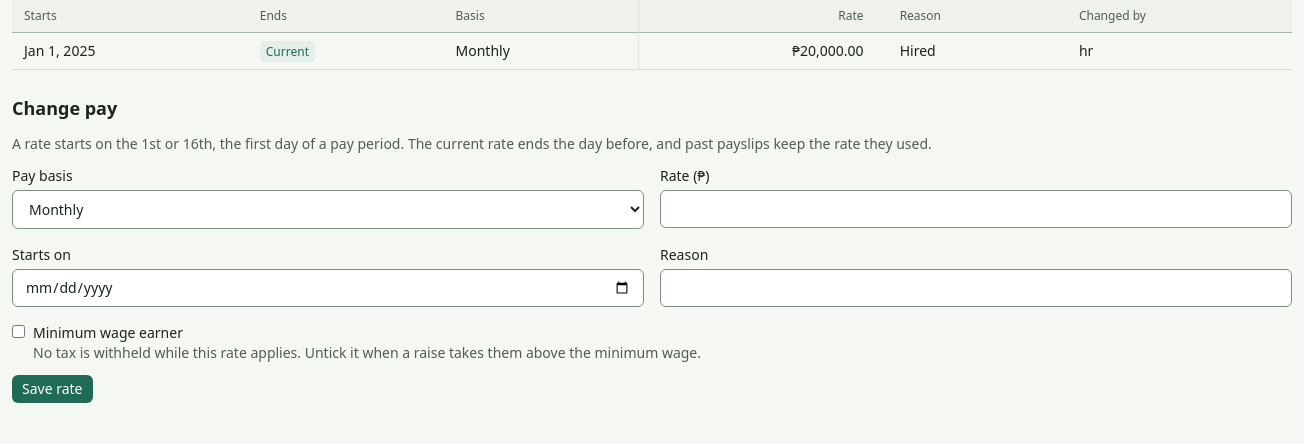
it: CompensationTab › asks for a pay-period start before saving
Expected: the text "₱20,000.00" is shown, top-left (638, 32), bottom-right (876, 70)
Step 1. Type "26000" into the field labelled "Rate (₱)" → (976, 209), box top-left (660, 190), bottom-right (1292, 228)
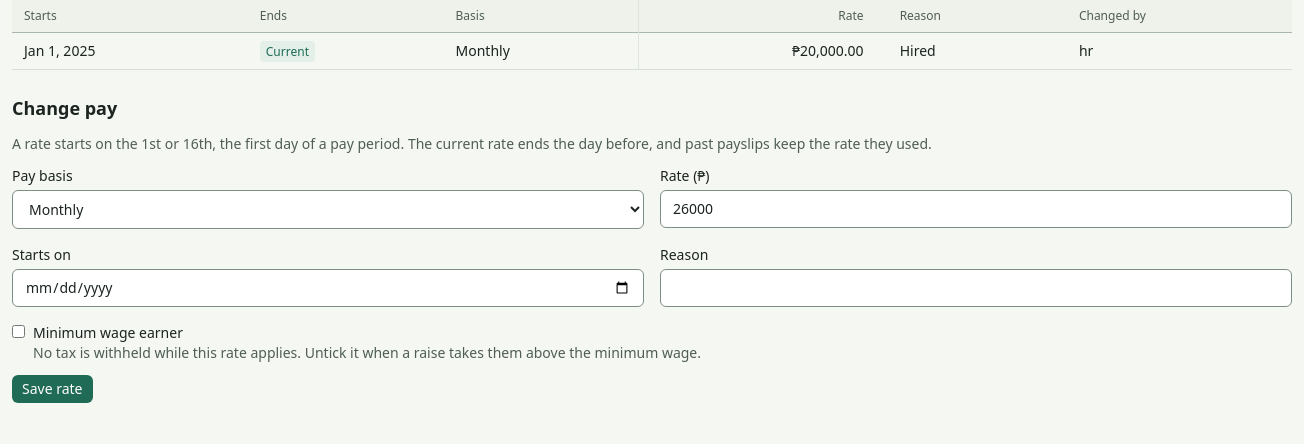
Step 2. Type "2026-03-05" into the date field labelled "Starts on" → (328, 288), box top-left (12, 269), bottom-right (644, 307)
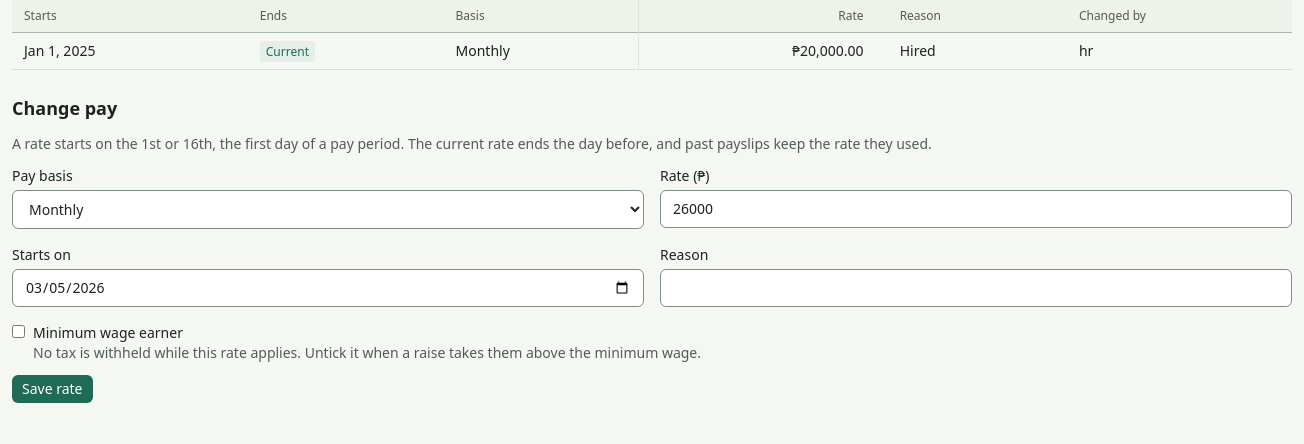
Step 3. Click the button "Save rate" → (52, 389), box top-left (12, 375), bottom-right (92, 403)
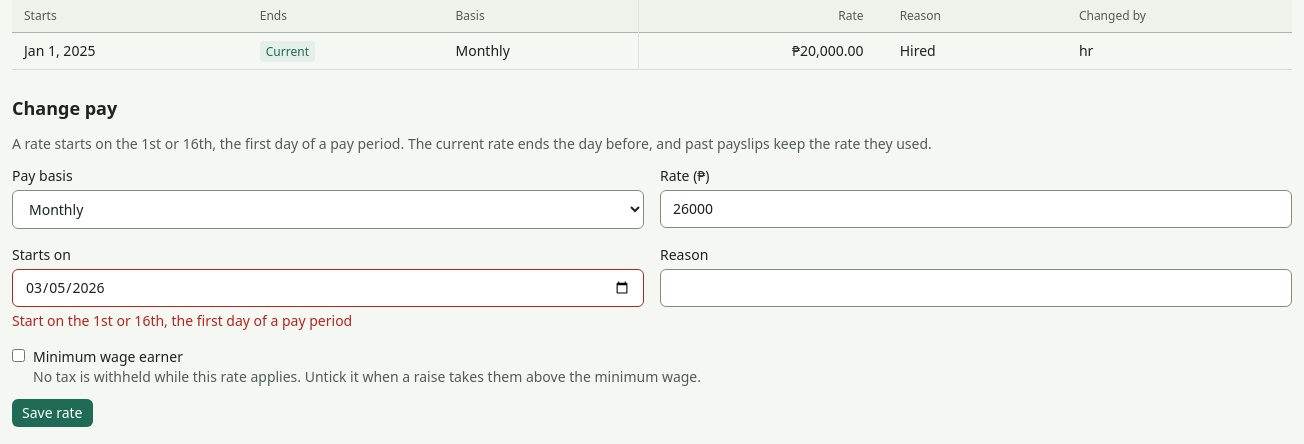
Now the text "Start on the 1st or 16th, the first day of a pay period" is shown, box top-left (12, 311), bottom-right (352, 330)
